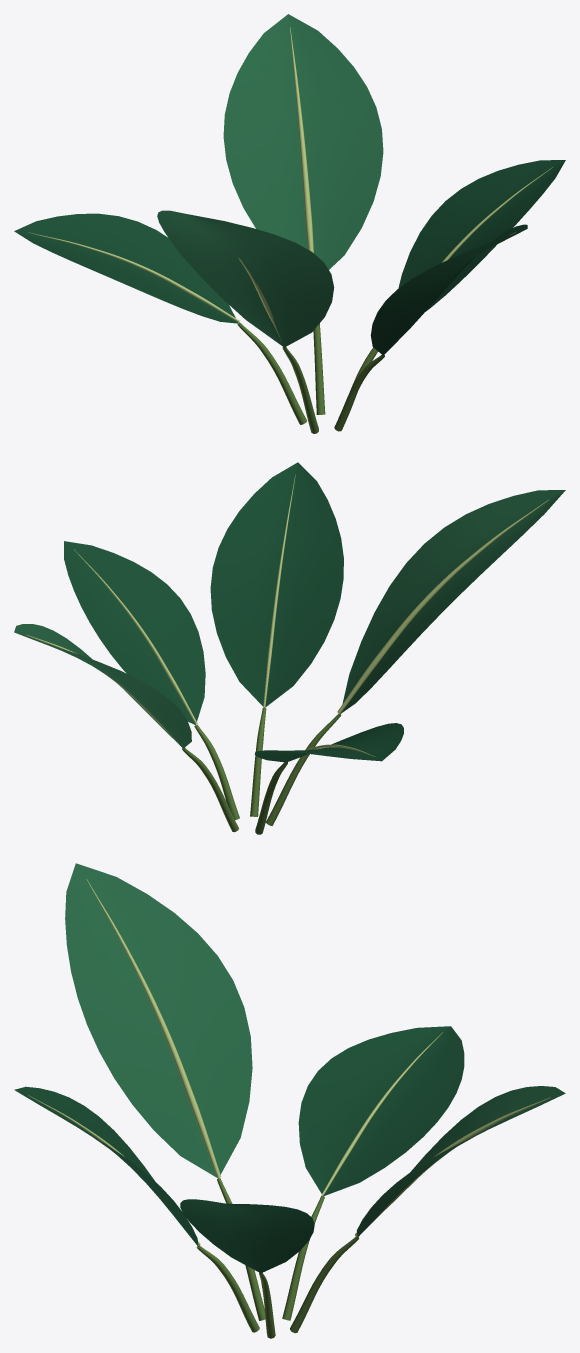
The model's file is canopy.glb.
3 views of the same model, one above another, from view 1: azimuth 30°, elevation 25°; view 2: azimuth 150°, elevation 25°; view 3: azimuth 270°, elevation 25° (orthographic). The views are drawn at different scales.
Parts seen in each view (by area): view 1: canopy; view 2: canopy; view 3: canopy.
Boxes of the visible parts, x1=… form: canopy: x1=14, y1=14, x2=565, y2=433; canopy: x1=14, y1=462, x2=565, y2=834; canopy: x1=14, y1=863, x2=565, y2=1338.
Size of the model in its own units: 1.85 by 1.32 by 1.9.
